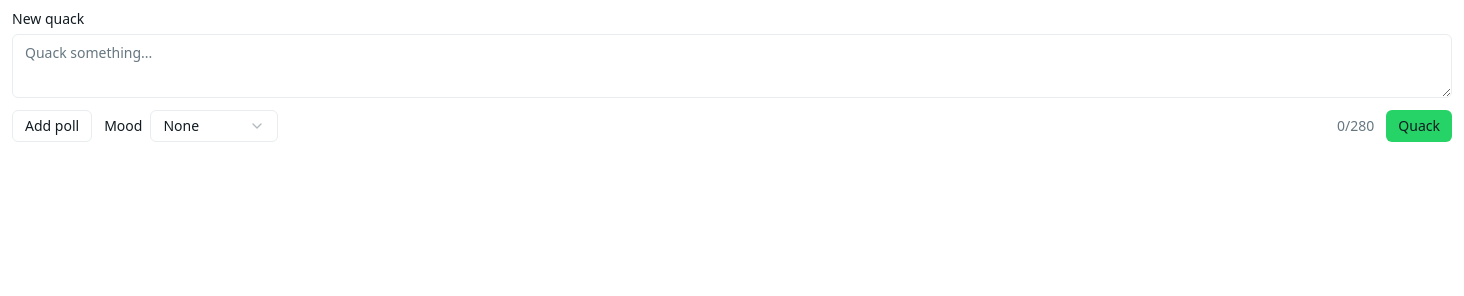
Test: QuackForm › lets the writer pick any of the four moods, or none
What coordinates should you click on to do the following:
click the dropdown named "Mood"
I would click on:
 (214, 126)
Its box is [150,110,278,142].
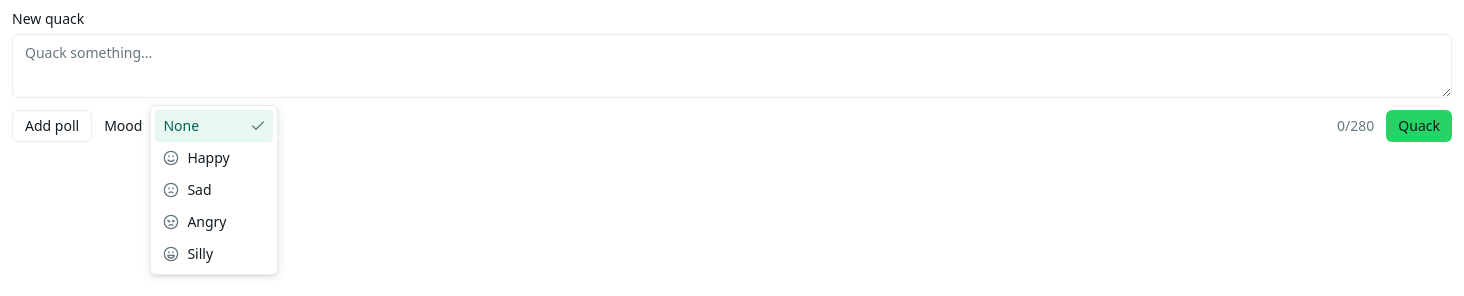
Now the options read "None", "Happy", "Sad", "Angry", "Silly", in this order, box [155,110,273,142]; [163,148,230,167]; [163,180,212,199]; [163,212,226,231]; [163,244,213,263]
